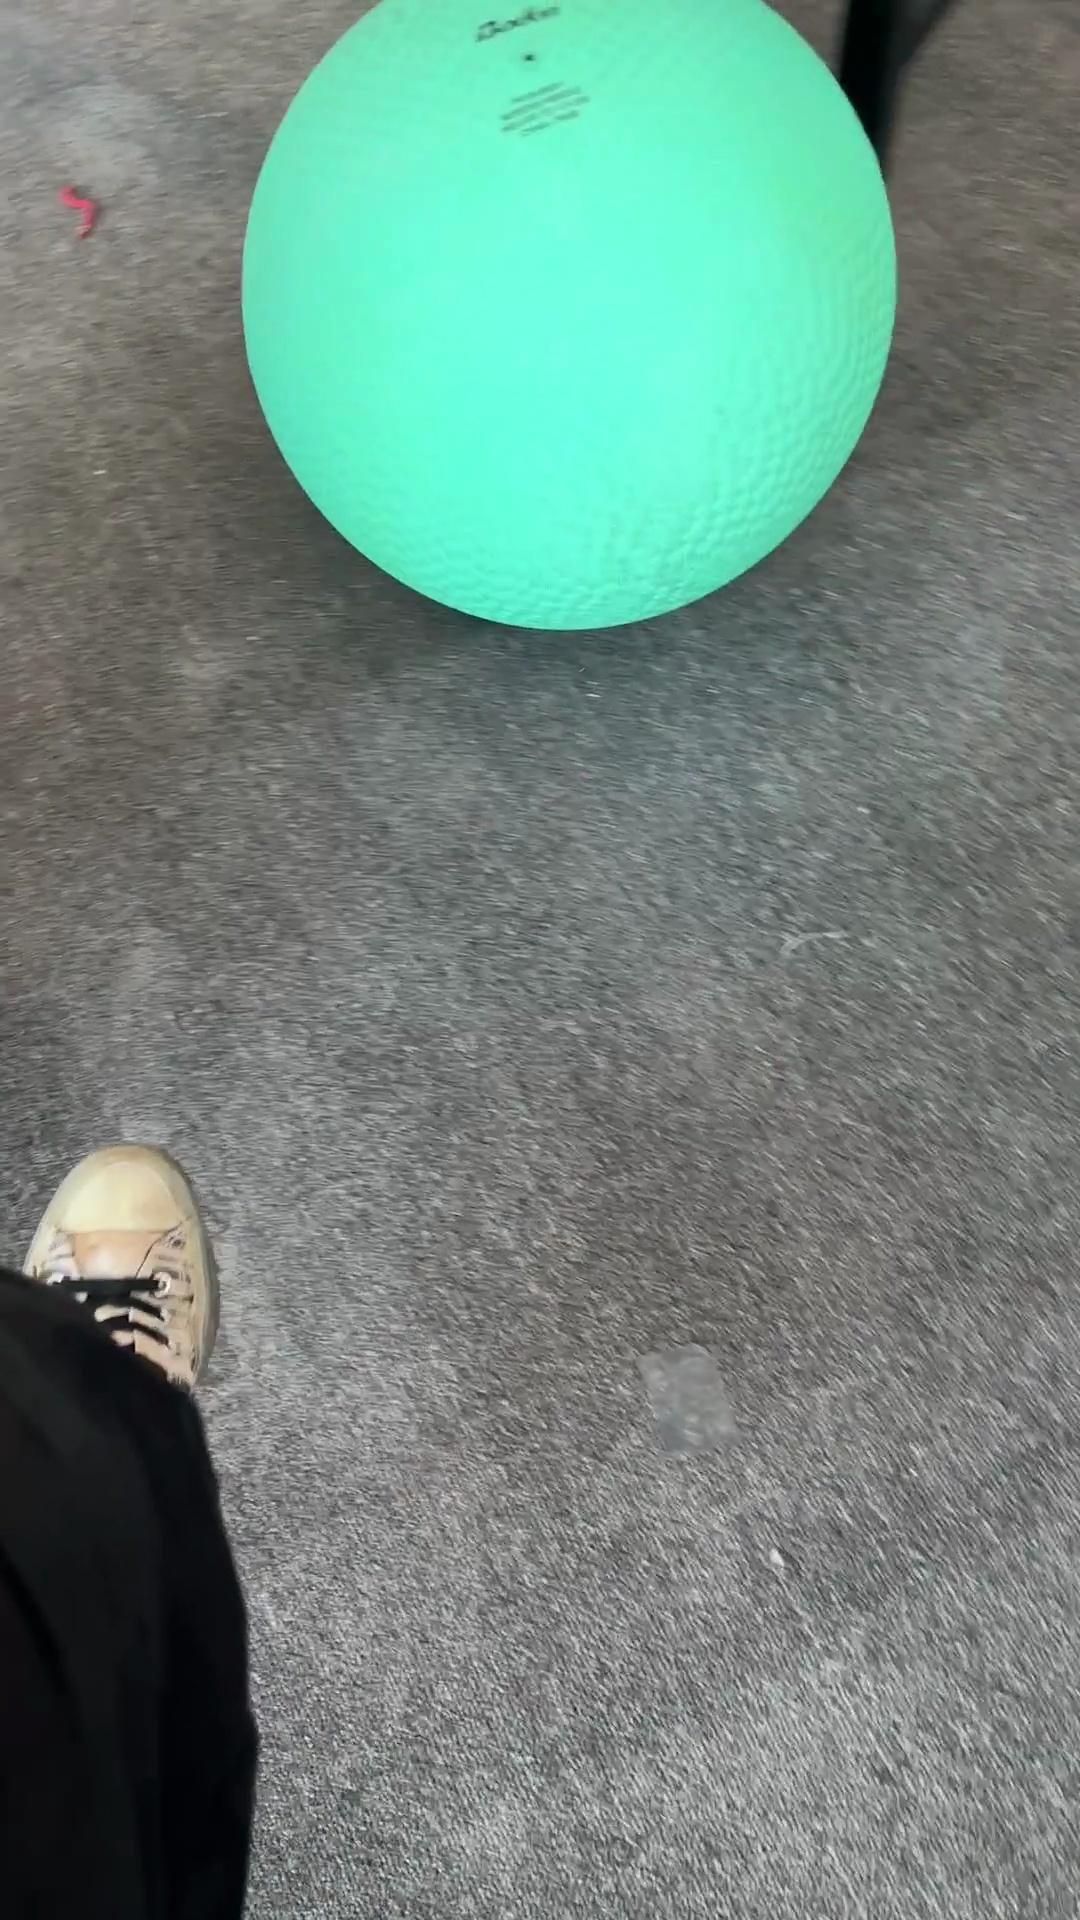ALGAE: (237, 0, 899, 633)
